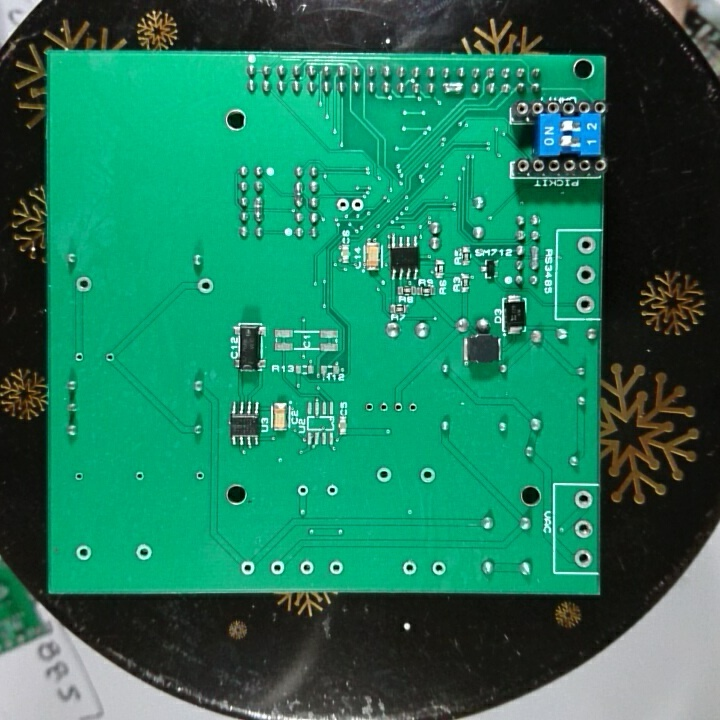F: (131, 540, 157, 565), (574, 234, 599, 259), (571, 517, 596, 541), (574, 263, 597, 289), (574, 291, 597, 315), (71, 542, 95, 565), (573, 488, 595, 511), (195, 275, 217, 298), (417, 464, 439, 486), (572, 547, 593, 570), (373, 465, 394, 485), (72, 274, 94, 293), (327, 558, 346, 577), (239, 557, 257, 577), (402, 557, 419, 578), (268, 557, 285, 578), (297, 558, 315, 576), (431, 559, 448, 578), (349, 195, 365, 215), (71, 349, 88, 367), (102, 349, 119, 366), (191, 467, 207, 485), (324, 482, 340, 500), (335, 196, 350, 215), (294, 481, 310, 498), (377, 398, 392, 415), (362, 398, 377, 415), (391, 400, 405, 418), (405, 399, 419, 416), (71, 469, 85, 483), (134, 469, 146, 485)
P: (251, 195, 265, 223), (440, 80, 466, 95), (293, 178, 306, 207), (529, 243, 542, 271)
